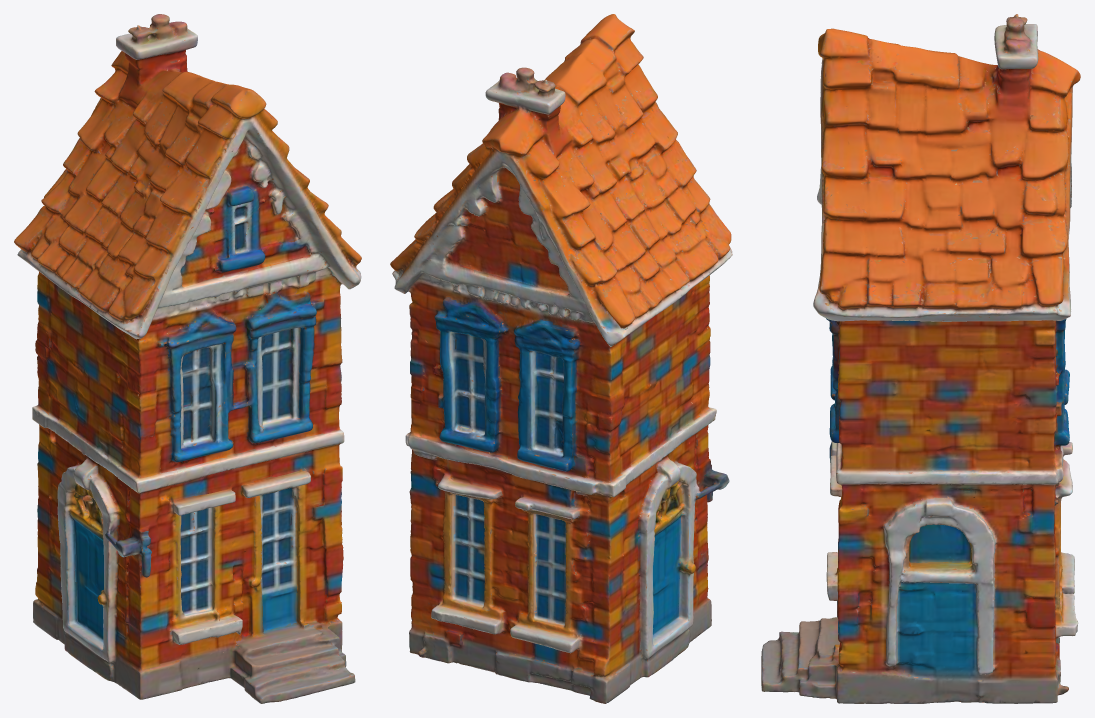
File: Row-House.glb
3 renders of one model, left to right at view 1: azimuth 30°, elevation 25°; view 2: azimuth 150°, elevation 25°; view 3: azimuth 270°, elevation 25°, orthographic. The views are drawn at different scales.
Bounding box in the file's own units: 0.8642 × 2 × 0.9133.
Materials: 1 (1 with a texture image).
